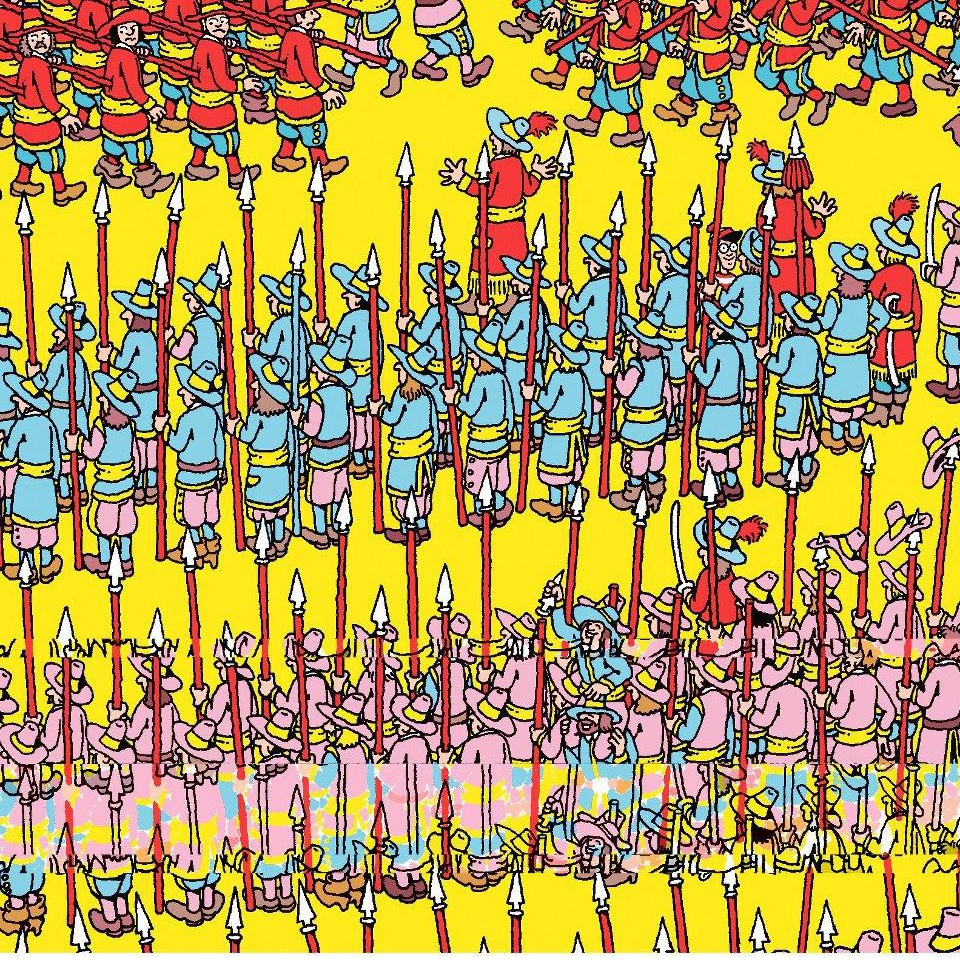waldo: (710, 224, 739, 286)
